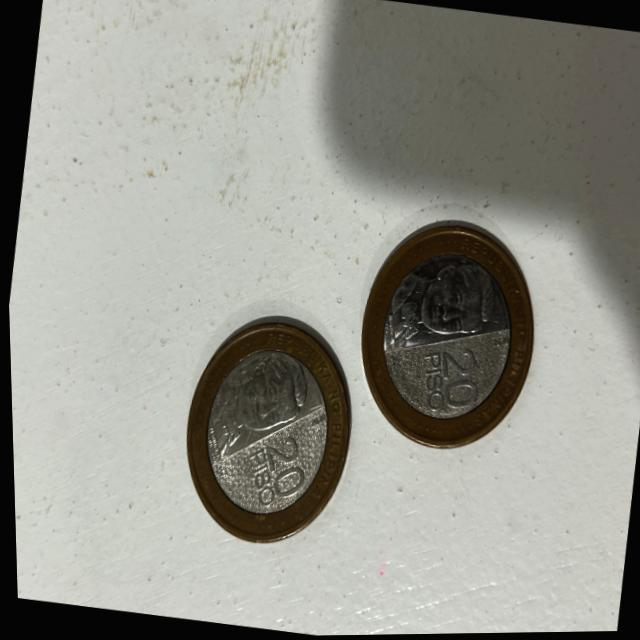20_New_Front: (240, 426, 310, 516), (414, 341, 481, 425)
